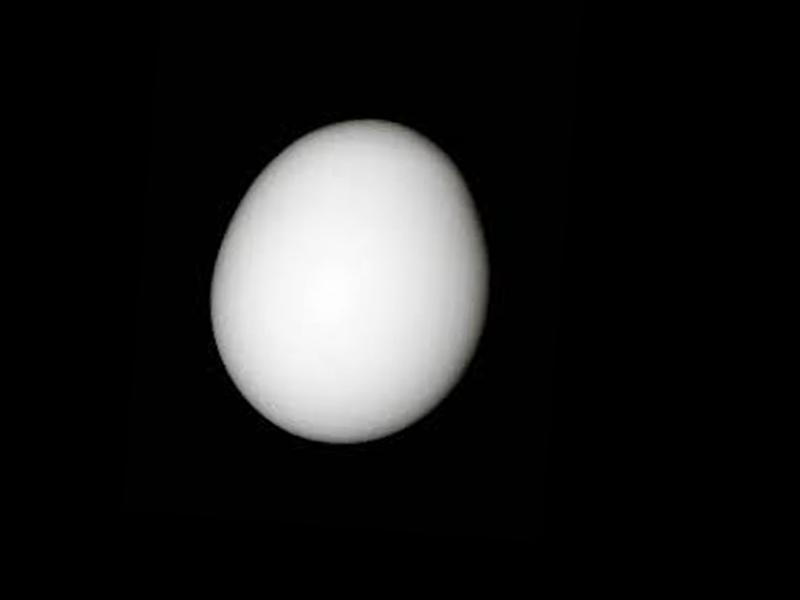Eggs: (201, 111, 494, 455)
